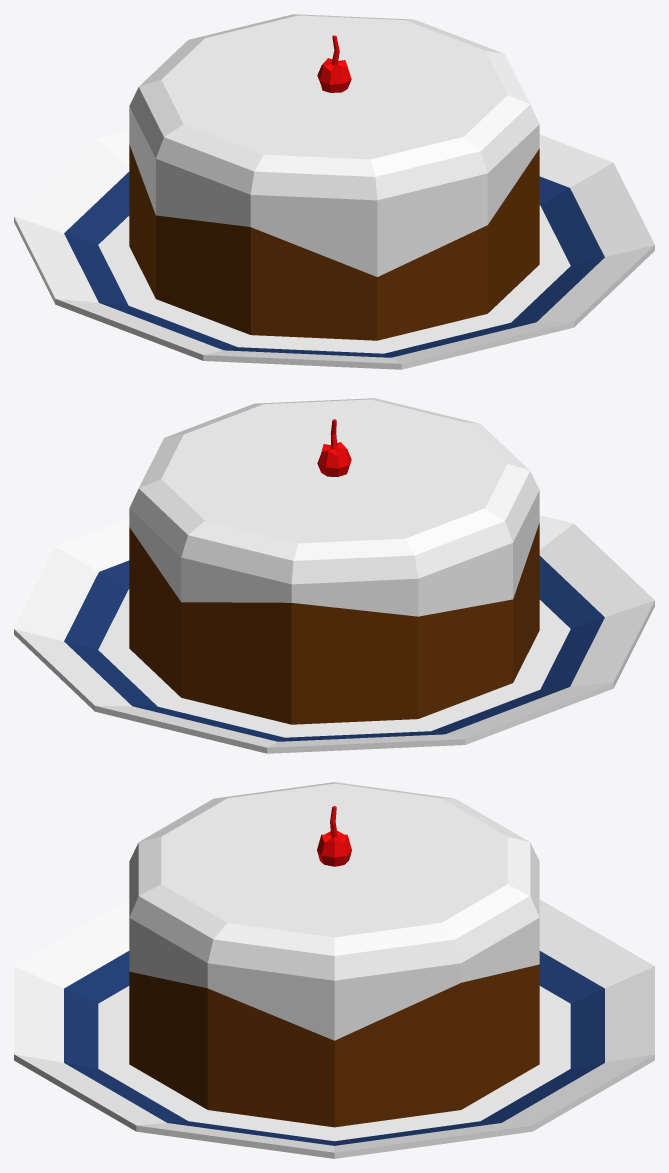
Rendered from cake1.glb.
3 renders of one model, top to bottom at view 1: azimuth 30°, elevation 25°; view 2: azimuth 150°, elevation 25°; view 3: azimuth 270°, elevation 25°, orthographic. The views are drawn at different scales.
Visible parts, largest first — view 1: SM_dangao_yecan_blue_0; view 2: SM_dangao_yecan_blue_0; view 3: SM_dangao_yecan_blue_0.
Part boxes in pixels (<box>): SM_dangao_yecan_blue_0: <box>14,14,654,369</box>; SM_dangao_yecan_blue_0: <box>14,398,654,753</box>; SM_dangao_yecan_blue_0: <box>14,782,654,1158</box>.
Size of the model in its own units: 109 by 41.69 by 103.
Materials: 4 (4 with a texture image).
